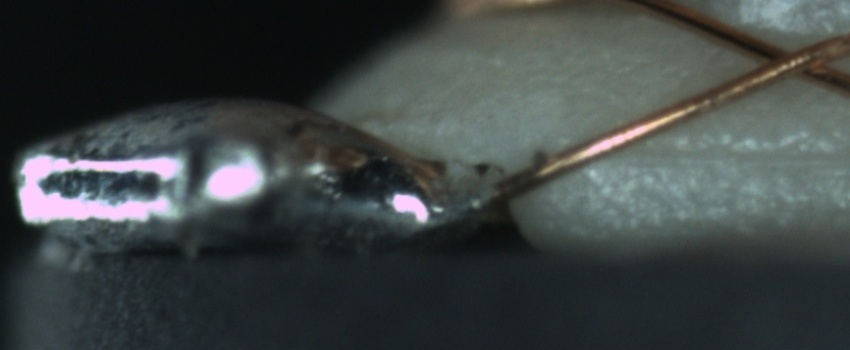CL: (736, 28, 841, 89)
DL: (617, 124, 846, 182)
